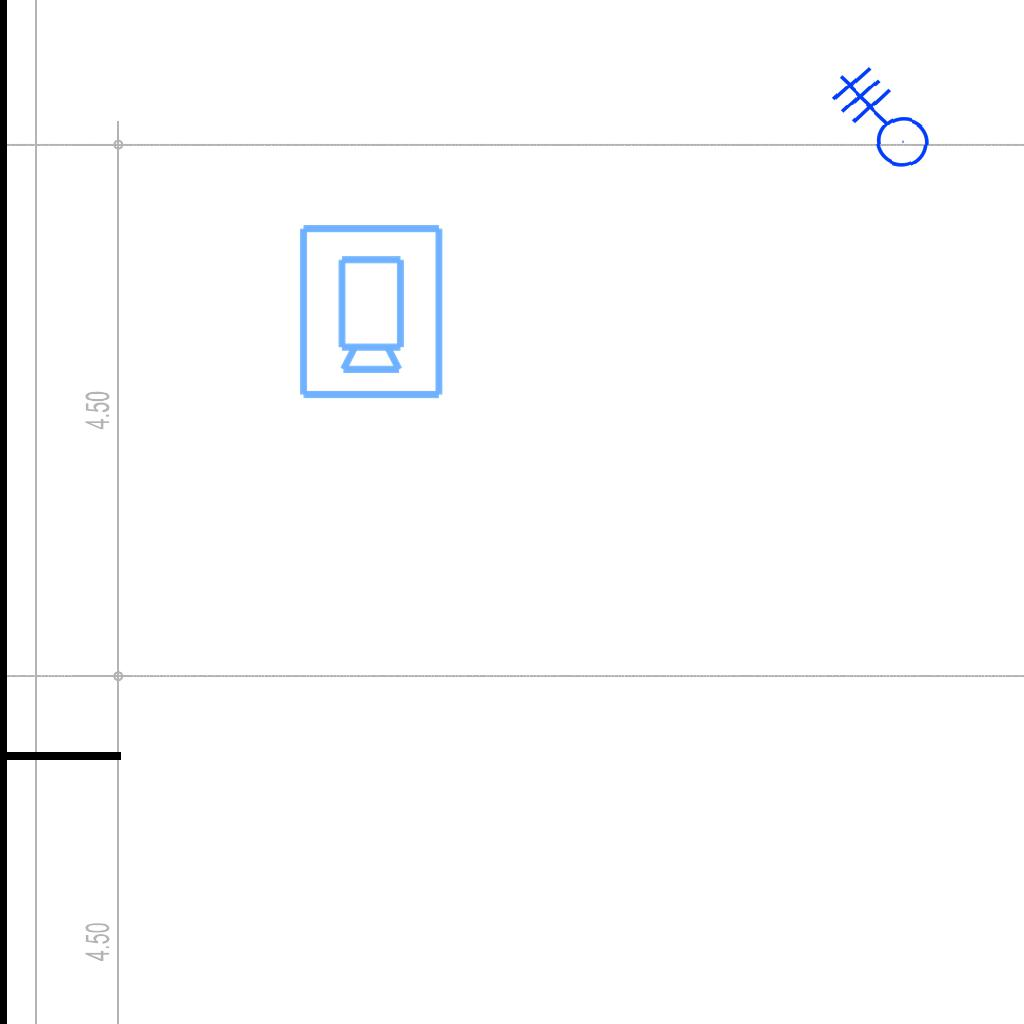Elektroanschluss_allgemein_400V_Geraeteanschlussdose_400V: (814, 63, 934, 186)
KFO_Kamera_mit_Festobjektiv: (293, 220, 447, 402)
